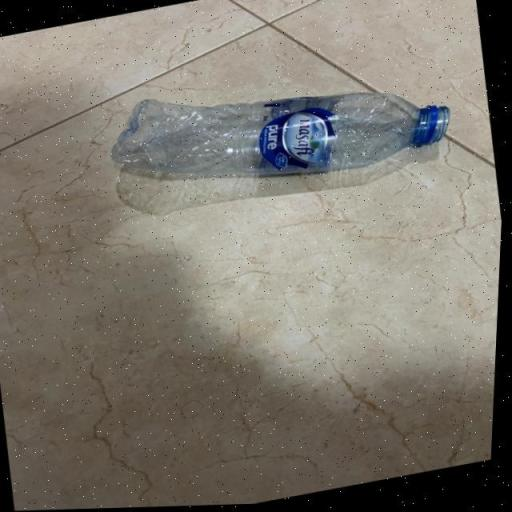plastic: (99, 41, 463, 227)
